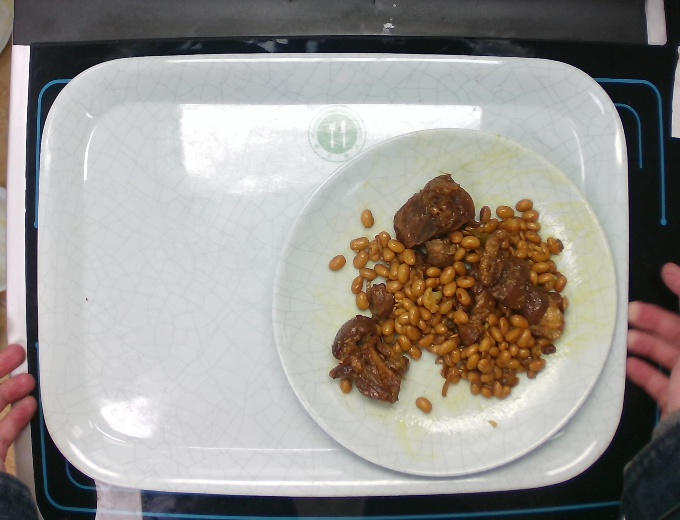JYsf-Da_Yuan_Pan: (269, 125, 620, 479)
